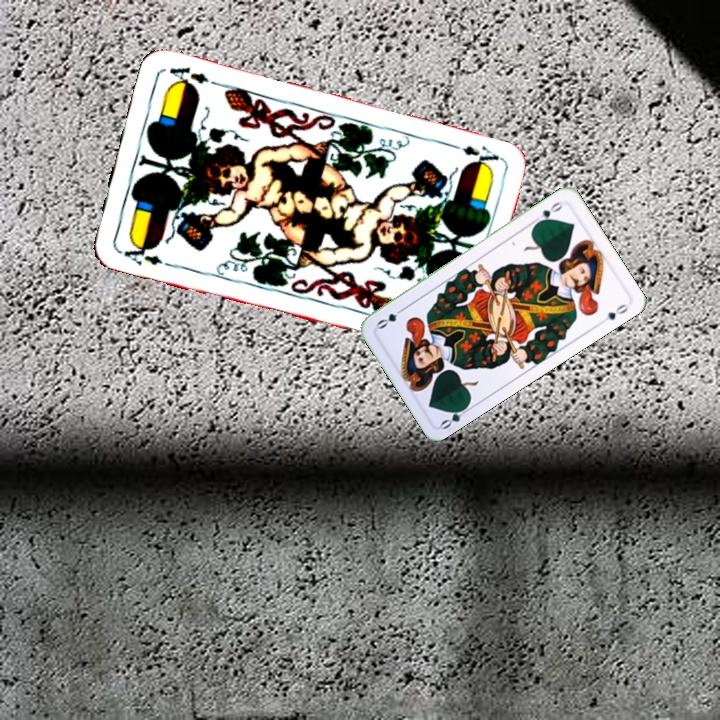EA: (115, 237, 173, 269), (445, 139, 503, 171)
GO: (436, 401, 474, 432), (532, 198, 566, 227)
